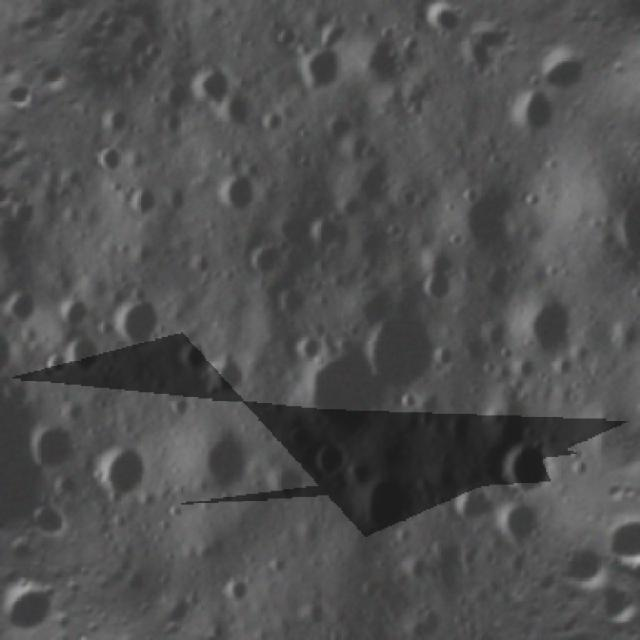crater: (350, 298, 441, 384), (487, 425, 576, 512), (504, 283, 588, 362), (473, 497, 550, 574), (80, 435, 152, 503), (286, 30, 354, 99), (15, 412, 83, 476), (499, 73, 564, 138), (104, 284, 164, 348), (53, 322, 115, 382), (180, 52, 240, 113), (208, 157, 266, 214), (193, 339, 252, 395), (414, 1, 478, 50), (0, 270, 52, 330), (79, 128, 132, 181), (417, 258, 471, 310), (242, 236, 293, 290), (442, 476, 488, 527), (120, 177, 166, 225), (289, 326, 334, 374), (308, 438, 352, 482), (345, 621, 442, 640), (0, 324, 29, 382), (221, 92, 261, 134), (609, 133, 640, 181), (394, 24, 428, 58), (259, 107, 290, 138), (631, 237, 640, 286)
